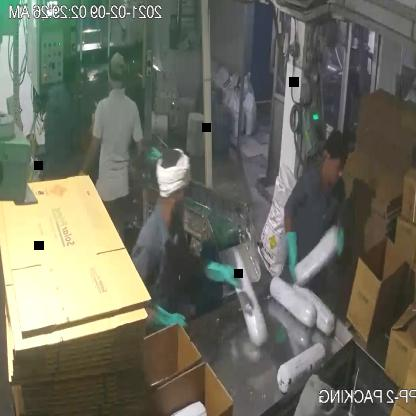glove: (192, 256, 243, 296), (136, 302, 186, 341), (284, 215, 308, 282), (331, 218, 348, 260)
no_glove: (76, 130, 102, 182)
